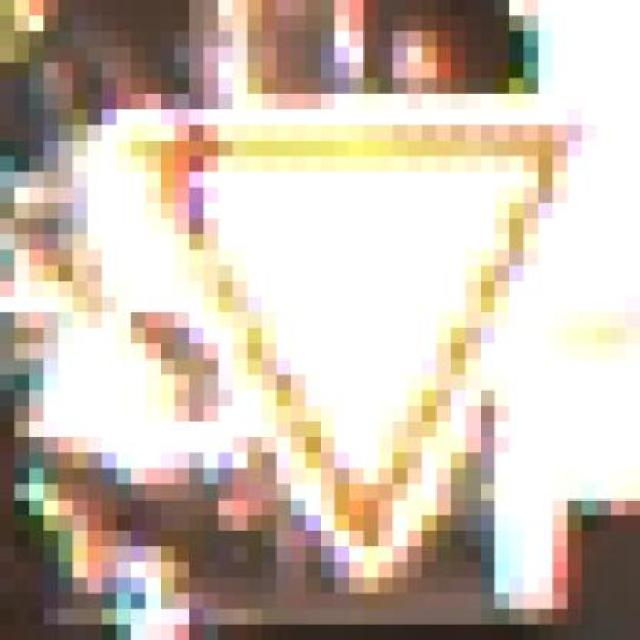Give Way: (87, 62, 596, 608)
